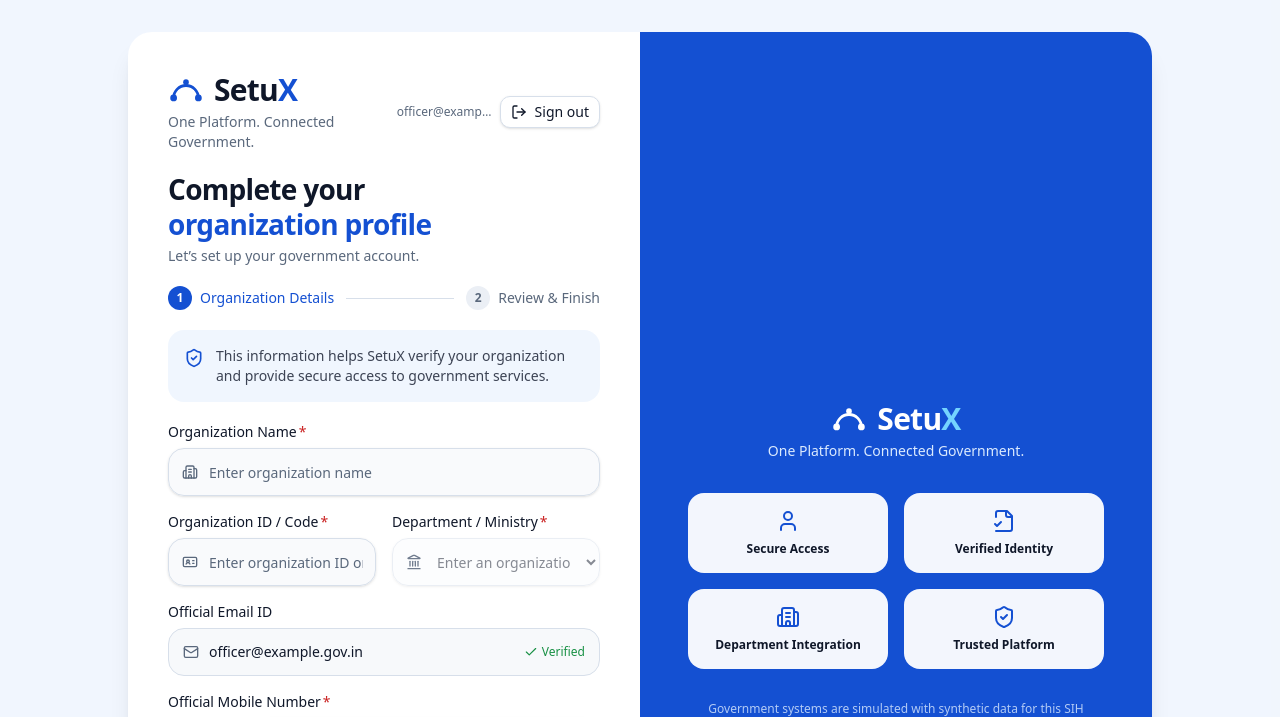
Test: GovernmentOnboardingPage › offers departments only after an organization code resolves
Expected: the dropdown labelled "Department / Ministry*" is disabled, [392,538,600,586]
Type "EDU" into the field labelled "Organization ID / Code*". click: (272, 562)
box: [168,538,376,586]
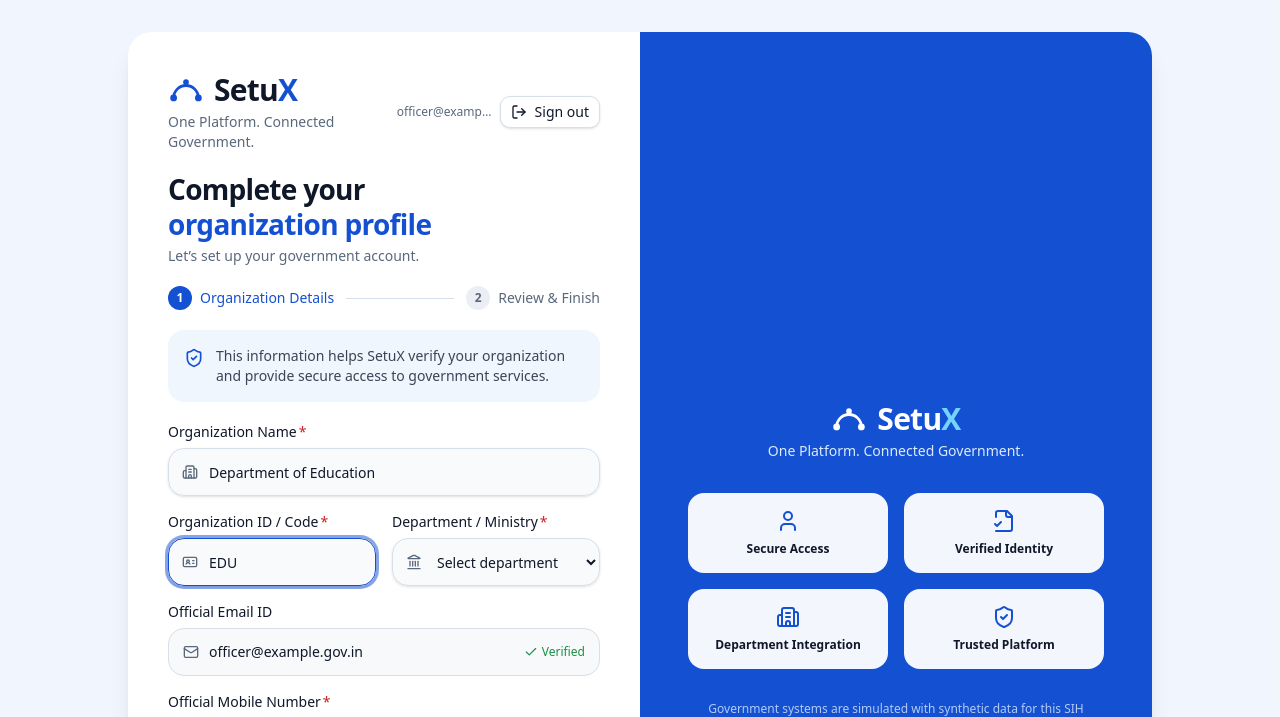
Expected: the dropdown labelled "Department / Ministry*" is enabled, [392,538,600,586]
